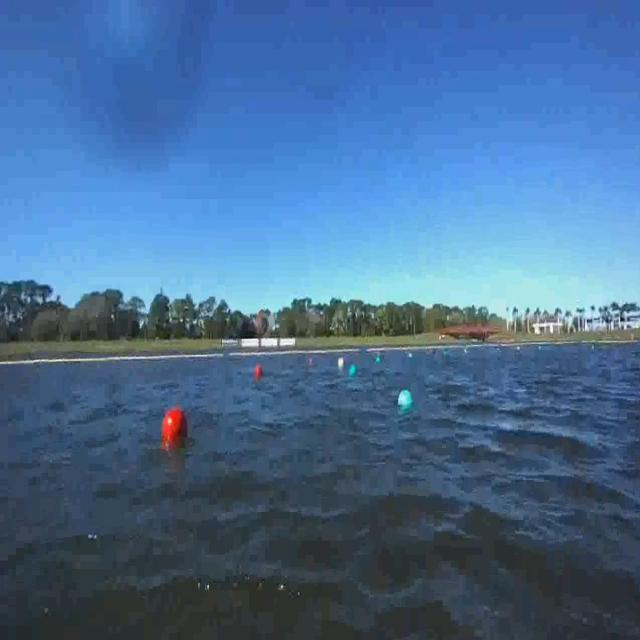green-buoy: (398, 388, 411, 411), (350, 363, 358, 376)
red-buoy: (164, 408, 190, 443)
red-column-buoy: (255, 364, 262, 378)
